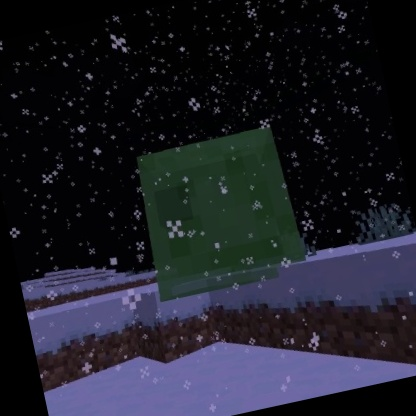slime: (123, 116, 311, 307)
